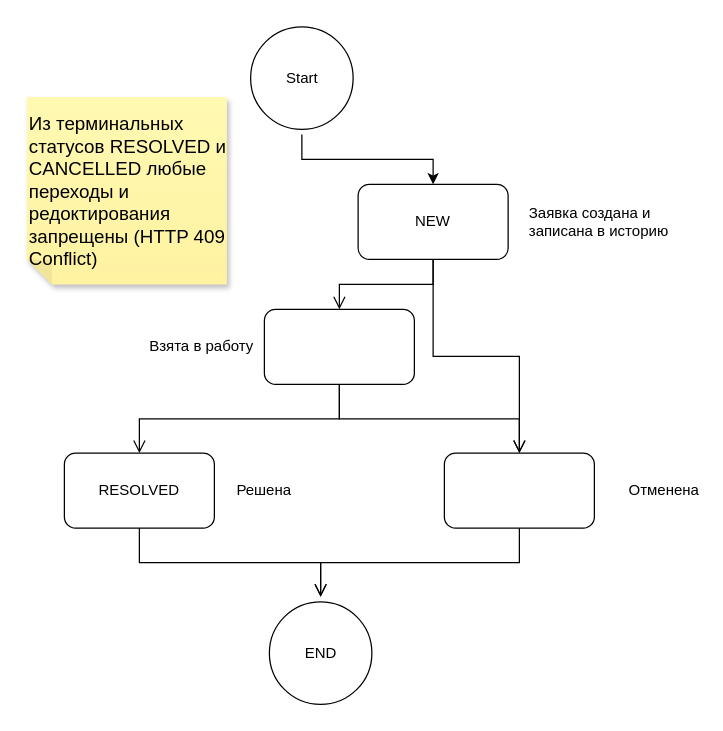
Image size: 723x731. Some labels were removed from this diagram. Each missing label, with the centre of its shape:
CANCELLED: [518,490]
IN_PROGRESS: [338,346]
